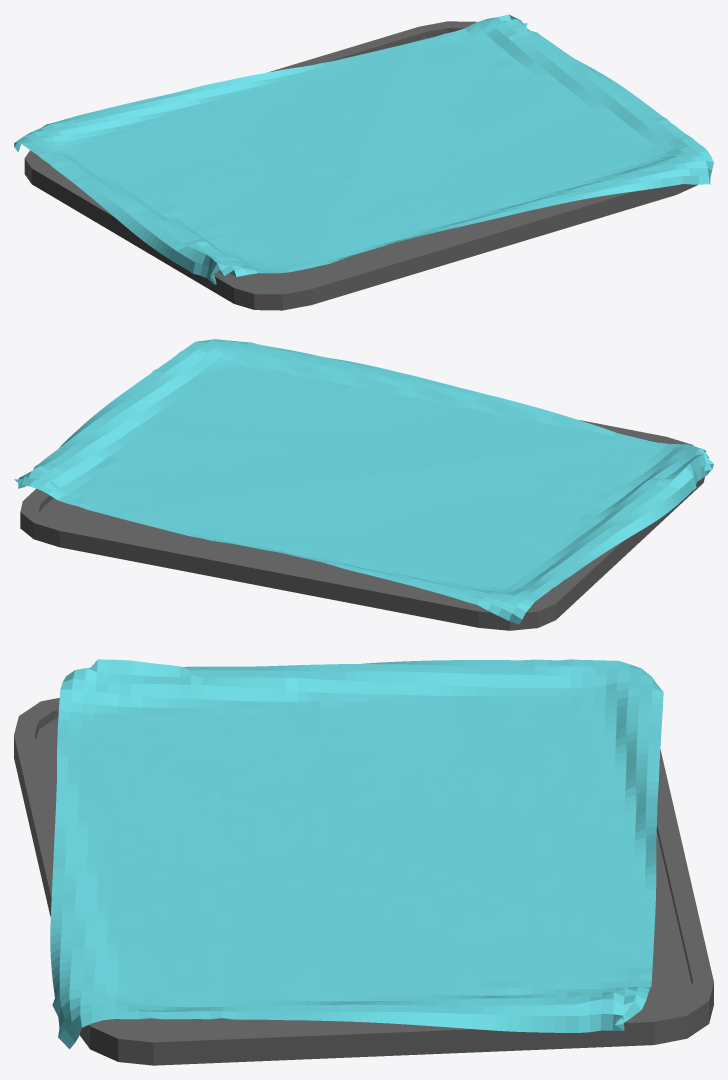
Rendered from SurgicalTray.fbx.
The picture shows the model from 3 angles, top to bottom: view 1: azimuth 30°, elevation 25°; view 2: azimuth 150°, elevation 25°; view 3: azimuth 270°, elevation 25°; orthographic projection. The views are drawn at different scales.
Visible parts, largest first — view 1: Tray; view 2: Tray; view 3: Tray.
Part boxes in pixels (x1,y1,x2,y2): Tray: (14, 14, 713, 310); Tray: (14, 339, 713, 630); Tray: (14, 659, 713, 1065).
Size of the model in its own units: 142 by 9.52 by 114.
